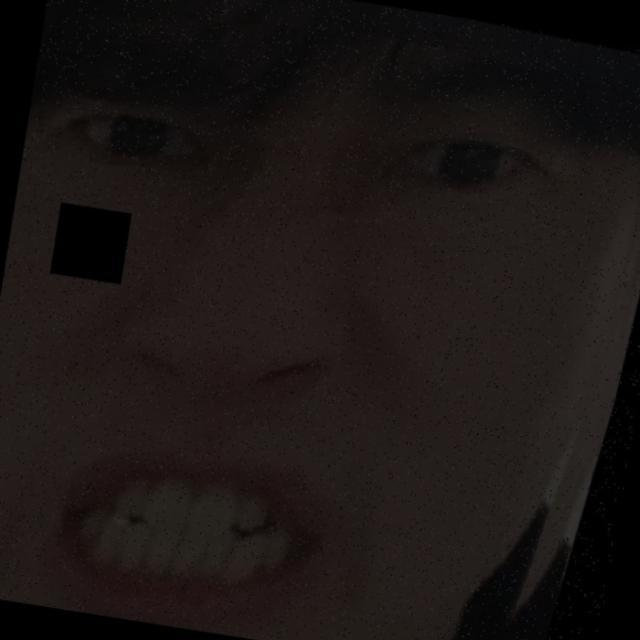Angry: (0, 41, 603, 635)
